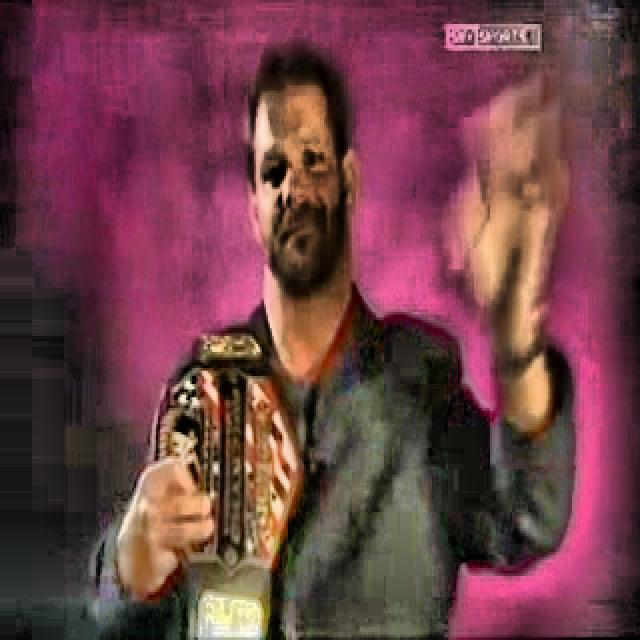L: (88, 42, 573, 638)
